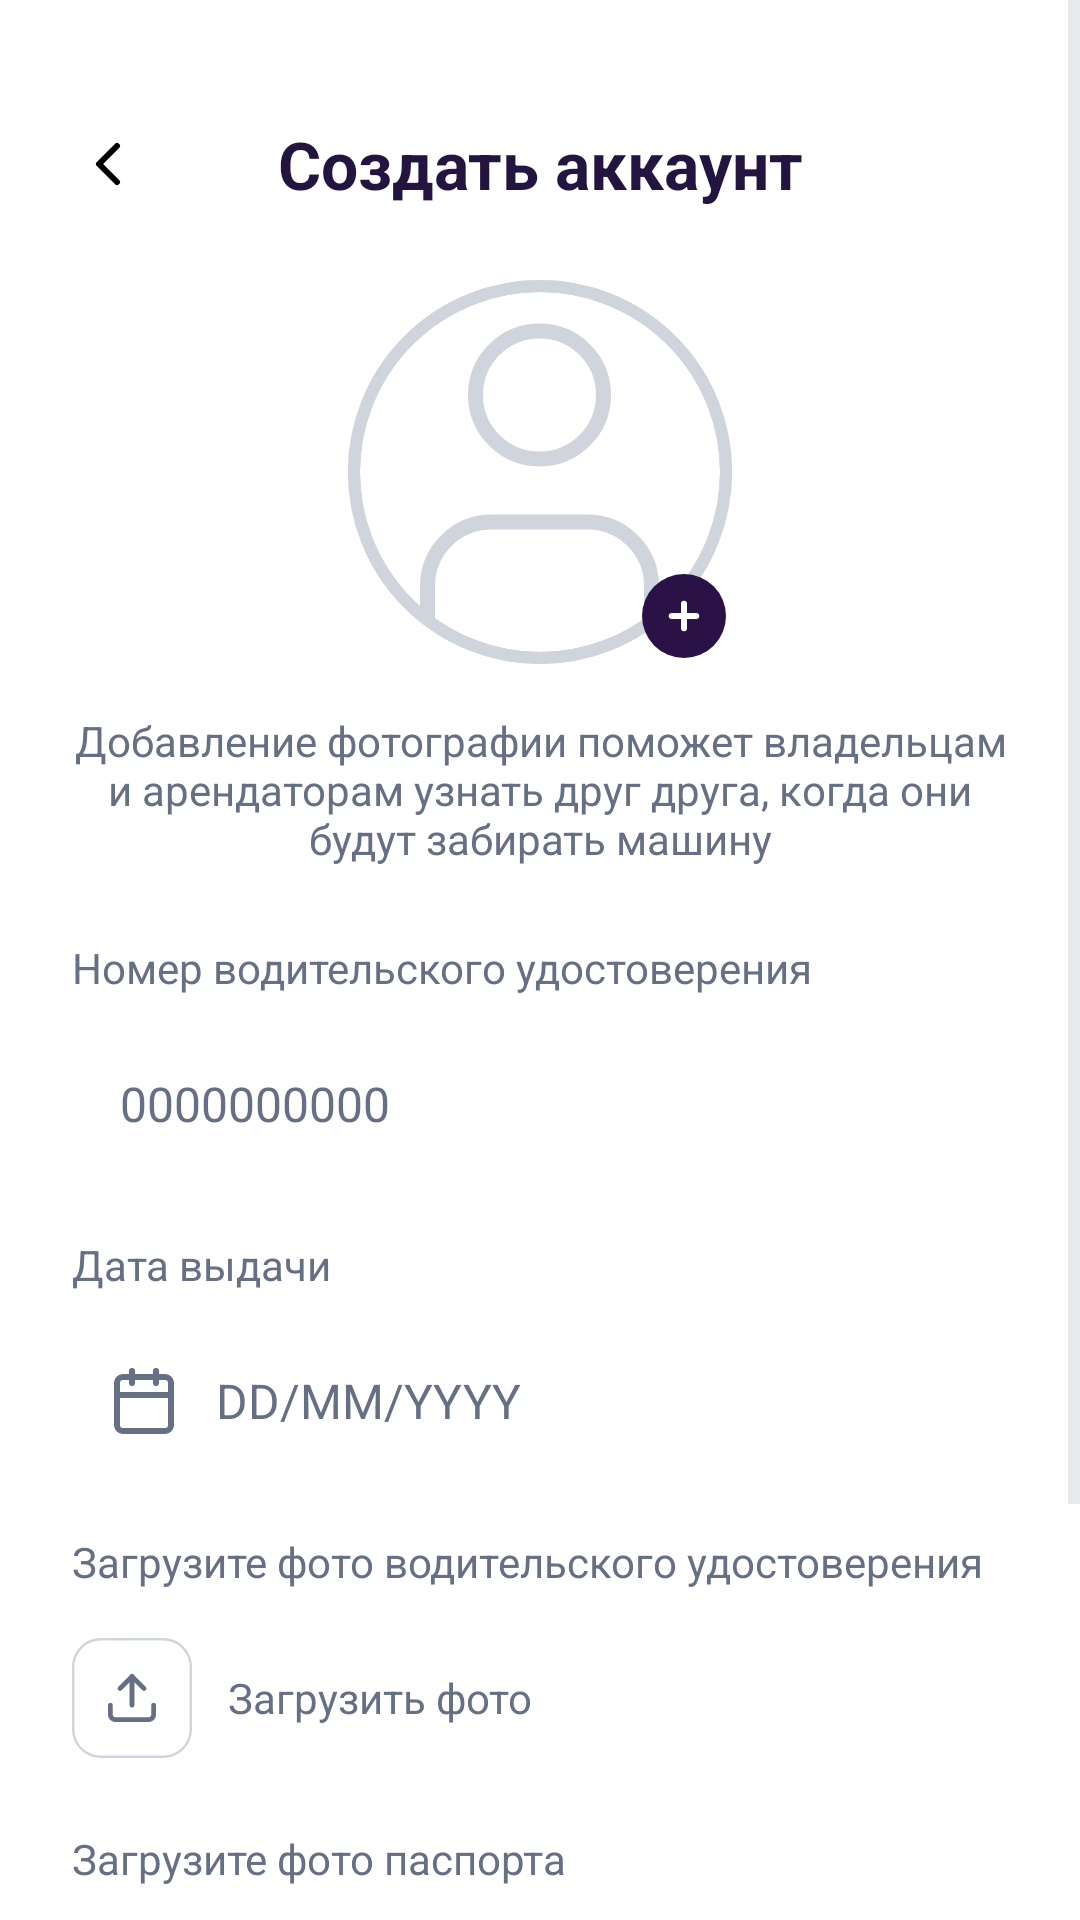

Screen size 1080px x 1920px. Icon name, then its center in pixels as (x,y):
calendar: (144,1401)
chevron left: (108,164)
upload: (132,1698)
